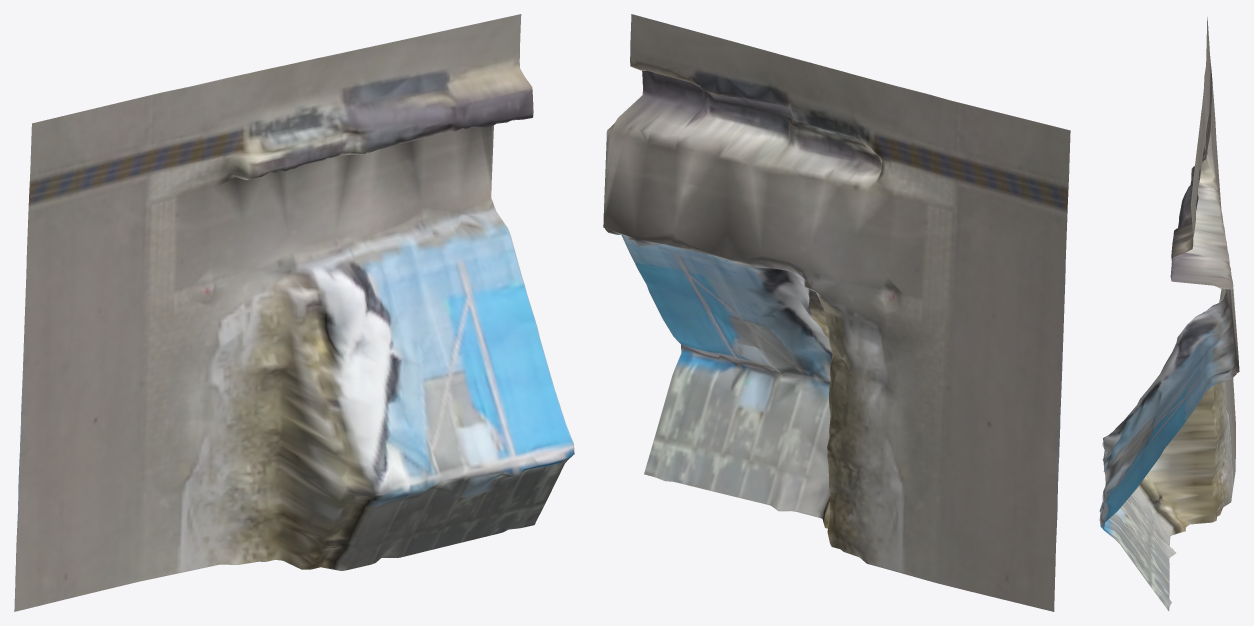
Rendered from map_50_90.obj.
3 views of the same model, side by side, from view 1: azimuth 30°, elevation 25°; view 2: azimuth 150°, elevation 25°; view 3: azimuth 270°, elevation 25° (orthographic). The views are drawn at different scales.
Visible parts, largest first — view 1: map_50_90.obj; view 2: map_50_90.obj; view 3: map_50_90.obj.
Part boxes in pixels (x1,y1,x2,y2): map_50_90.obj: (14,14,574,611); map_50_90.obj: (603,14,1070,611); map_50_90.obj: (1099,17,1239,611).
Size of the model in its own units: 10 by 10 by 3.11.
1 material, 1 textured.
